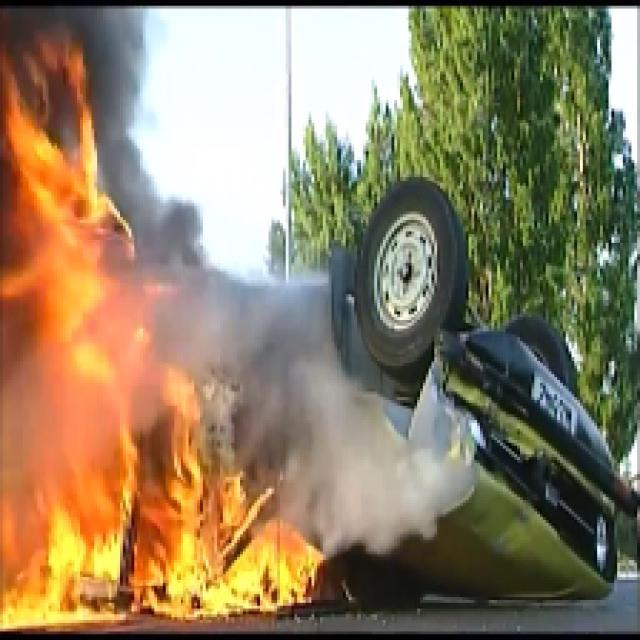Fire: (3, 46, 323, 632)
Smoke: (234, 272, 443, 548), (3, 3, 126, 123)
